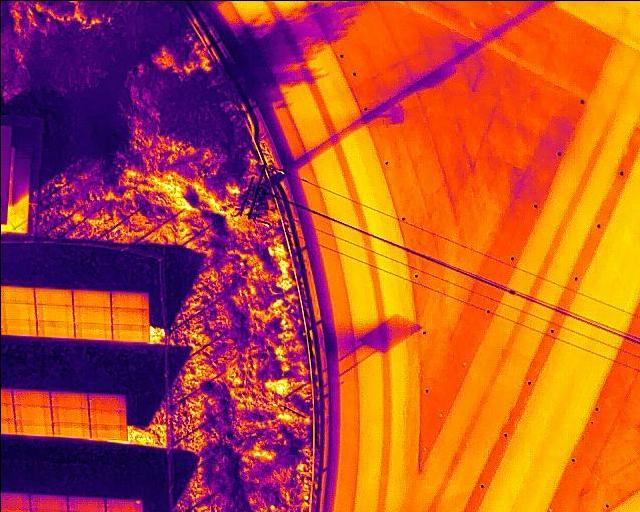Cell: (104, 498, 142, 512)
No-Anomaly: (111, 289, 149, 307), (30, 494, 66, 512), (73, 305, 111, 322), (34, 287, 72, 304), (51, 421, 89, 438), (111, 323, 148, 340), (36, 319, 73, 336), (90, 424, 127, 441), (12, 404, 51, 420), (10, 389, 49, 405), (49, 390, 88, 406), (72, 289, 111, 305), (13, 420, 51, 436), (111, 307, 149, 323), (66, 496, 104, 512), (74, 322, 111, 338), (36, 305, 73, 321), (50, 406, 89, 421), (89, 408, 125, 424), (88, 393, 125, 408), (4, 318, 36, 335), (3, 302, 36, 318), (2, 286, 35, 302), (0, 494, 29, 512)
